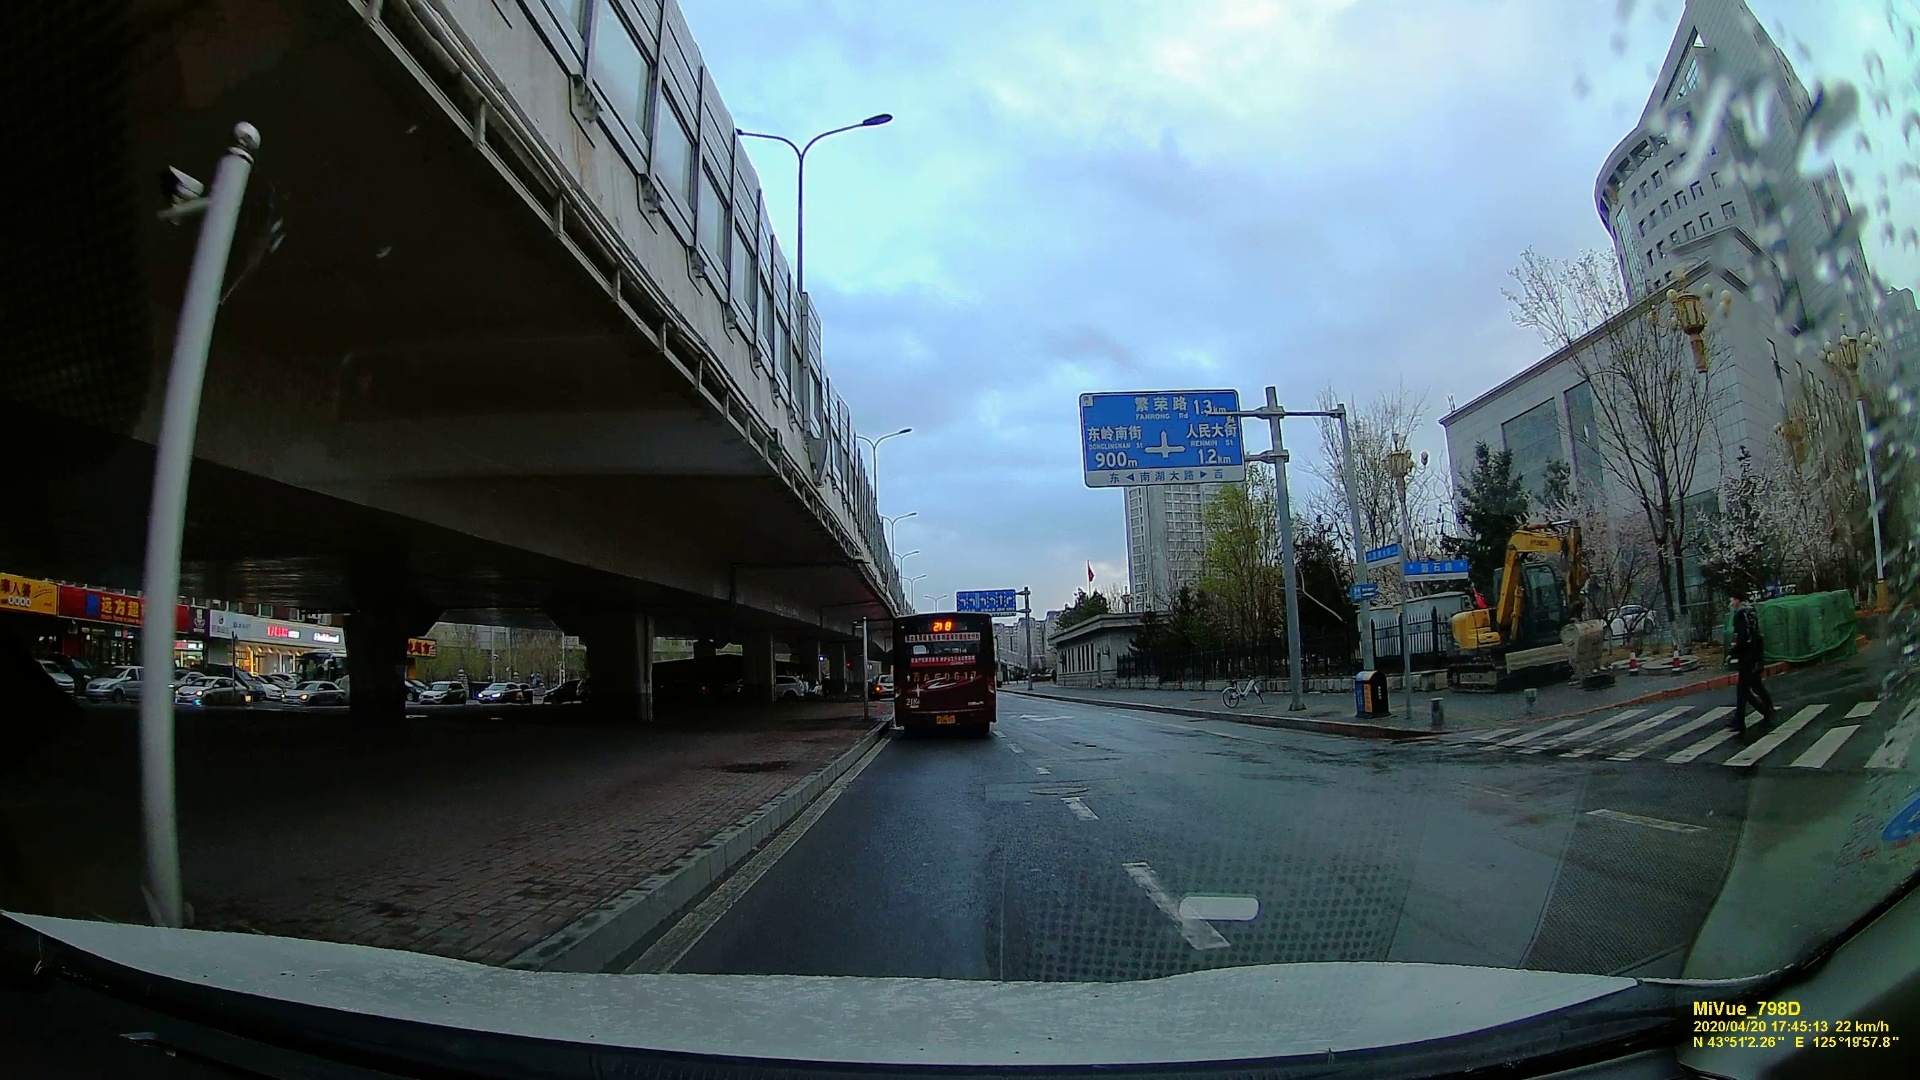bus: (894, 612, 998, 739)
person: (1725, 590, 1775, 733)
traffic_sign: (1080, 395, 1238, 479), (1339, 544, 1465, 616), (958, 590, 1014, 615)
vehicle: (873, 676, 895, 695)
